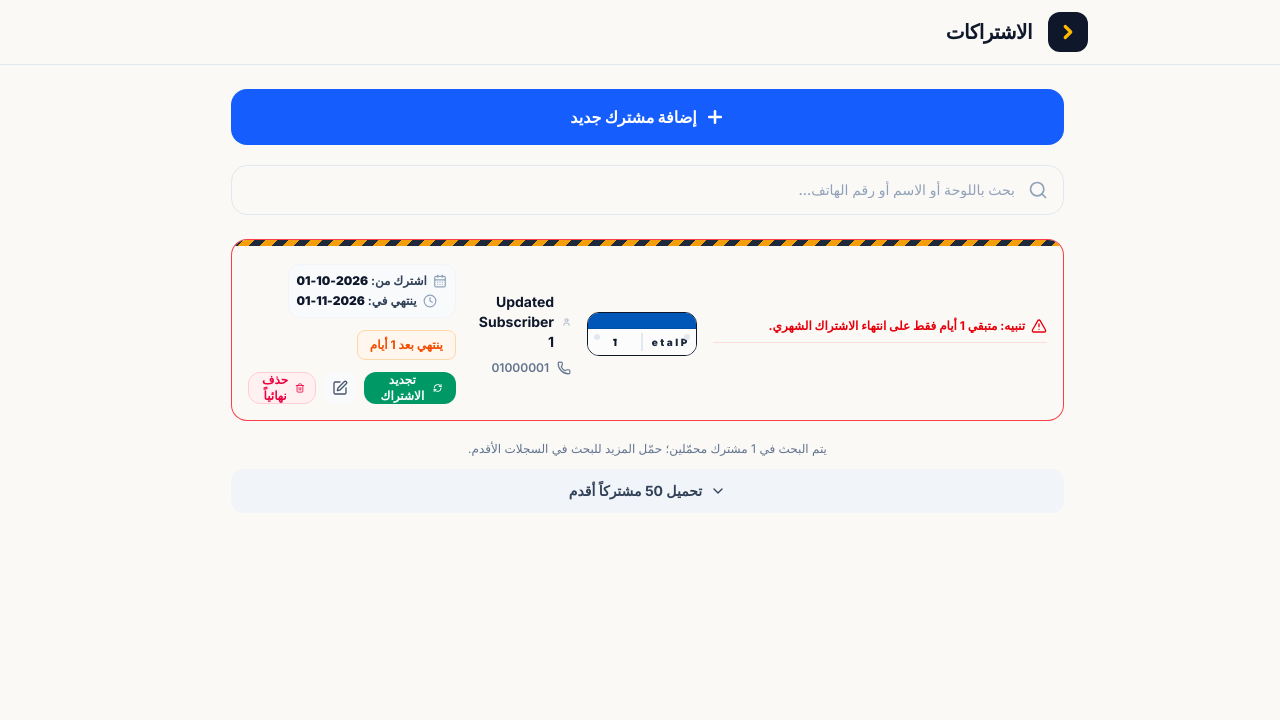
Test case: SubscribersView pagination and accessible names › uses a shared live first page without opening a duplicate listener and retains cursor pagination
The width and height of the screenshot is (1280, 720).
Expected: the text "Subscriber 1" is shown, top-left (479, 293), bottom-right (554, 350)
Expected: the text "Updated Subscriber 1" is shown, top-left (472, 292), bottom-right (554, 352)
What coordinates should you click on to do the following:
click the button "تحميل 50 مشتركاً أقدم"
I would click on:
 (648, 491)
Its box is top-left (231, 469), bottom-right (1064, 513).
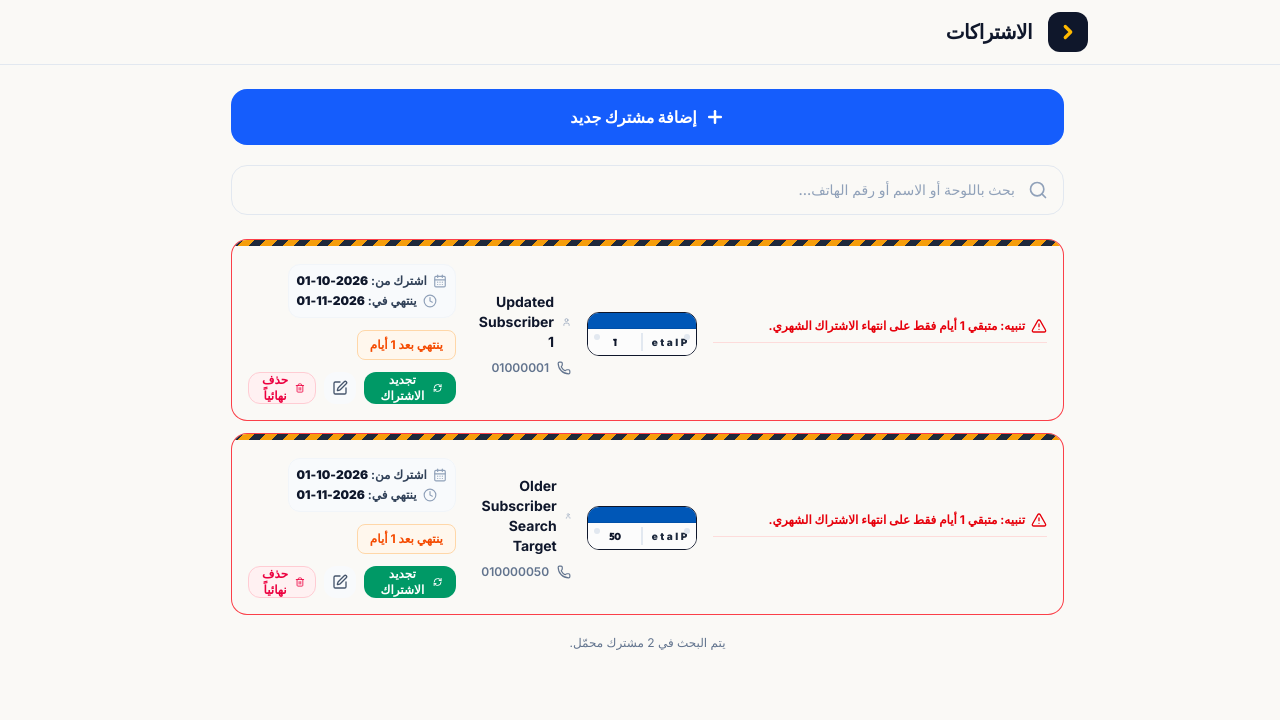
Result: the text "Older Subscriber Search Target" is shown at top-left (472, 476), bottom-right (557, 556)
